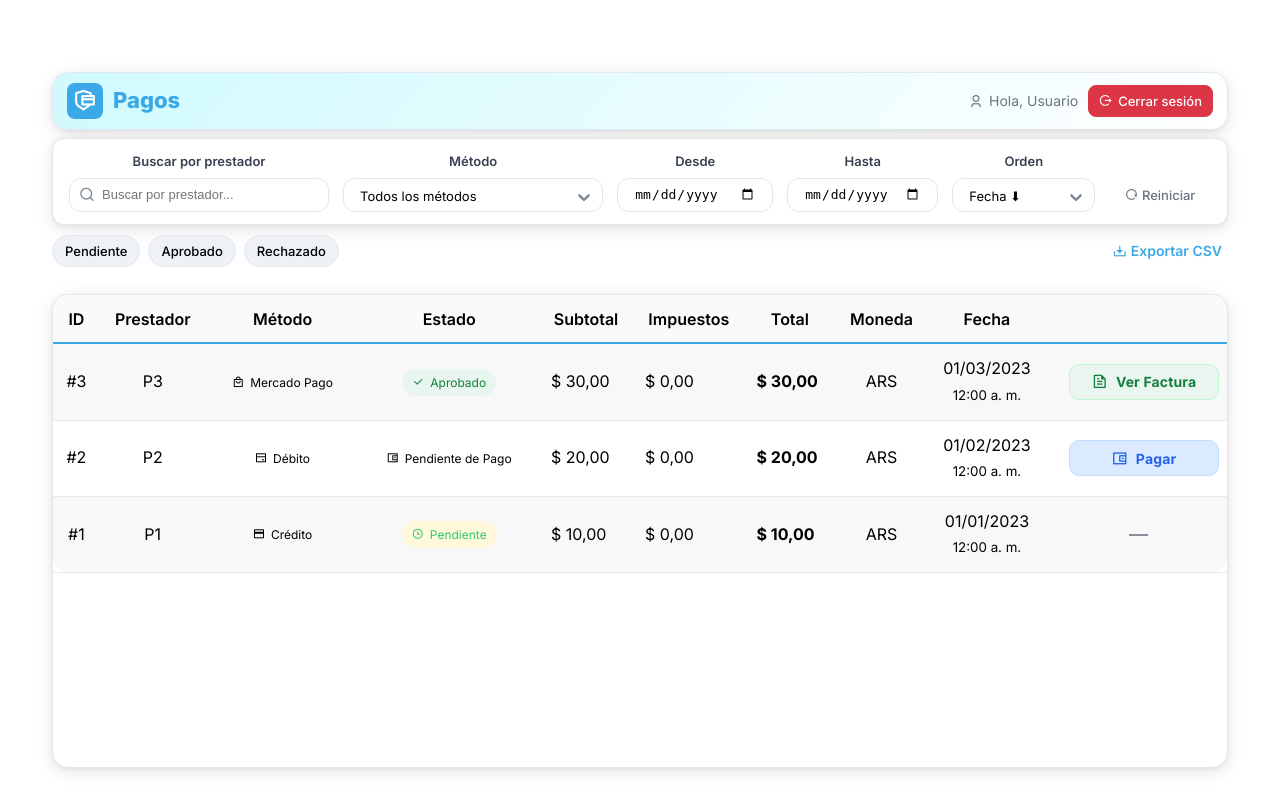
Scenario: PagosLista extra branches › Pendiente chip groups include PENDING and PENDING_PAYMENT
Check: the text "#1" is shown, box [53,496,100,572]
# click the Pendiente chip button (there are multiple nodes with the text 'Pendiente')
Click the button "Pendiente": (96, 251) [52,235,140,267]
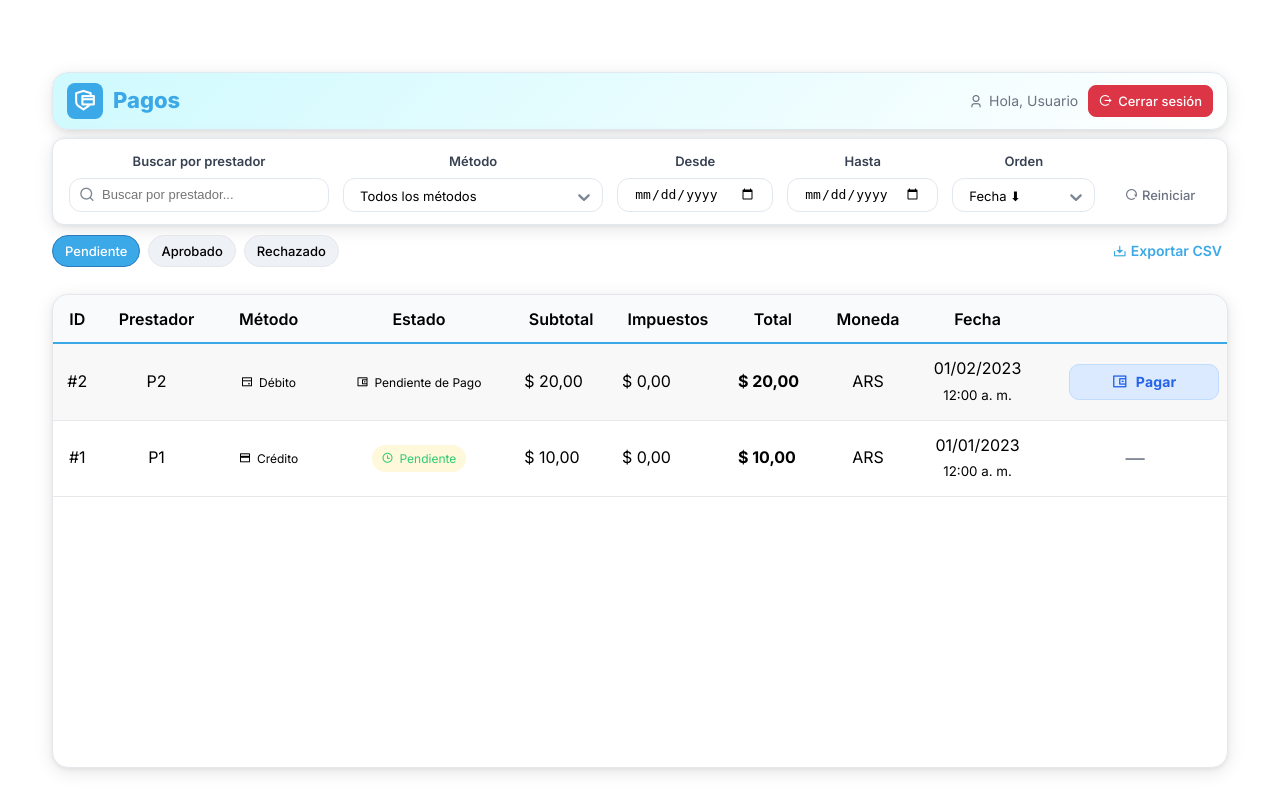
Check: the text "#1" is shown, box [53,420,102,496]
Check: the text "#3" is gone
